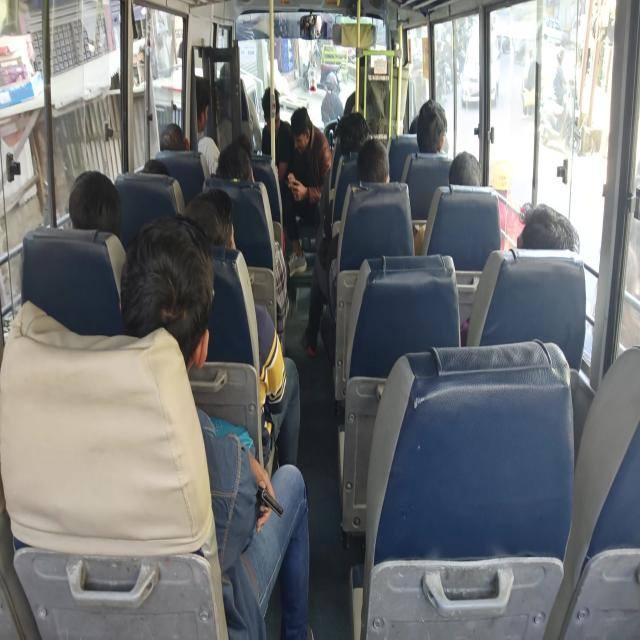person: (111, 224, 210, 372), (512, 198, 598, 334), (340, 138, 400, 195), (65, 160, 113, 222), (177, 192, 228, 246), (211, 150, 258, 199), (459, 148, 496, 208), (185, 79, 218, 135), (140, 146, 174, 200), (156, 119, 192, 160), (288, 112, 317, 160), (228, 121, 258, 164), (420, 108, 448, 150), (264, 79, 286, 126), (341, 126, 364, 153), (407, 118, 424, 130)
